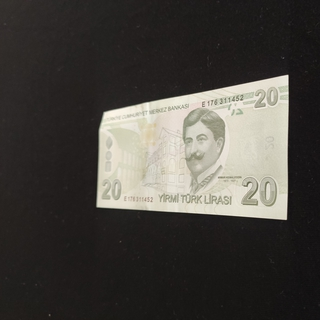20TLBack: (95, 74, 289, 220)
